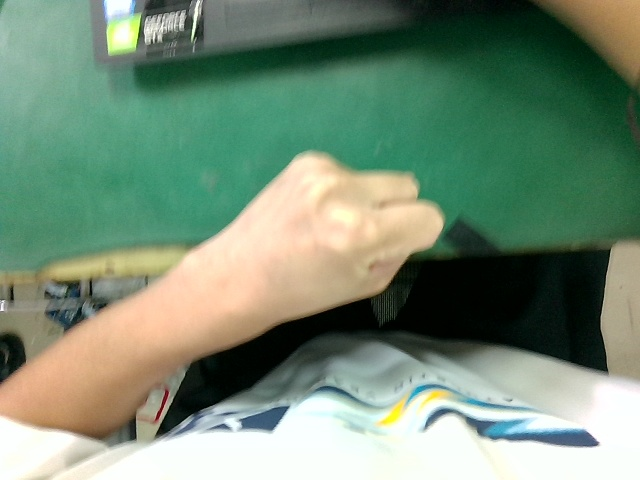stone: (192, 140, 449, 327)
